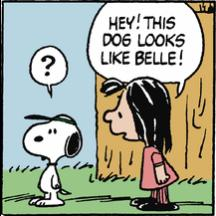snoopy: (22, 112, 82, 208)
